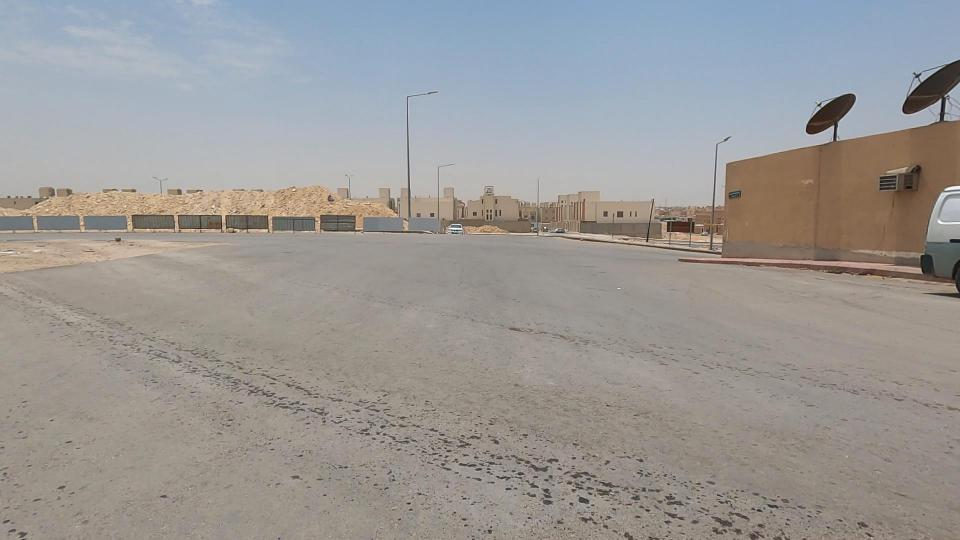SAND_ON_ROAD: (434, 205, 549, 256)
